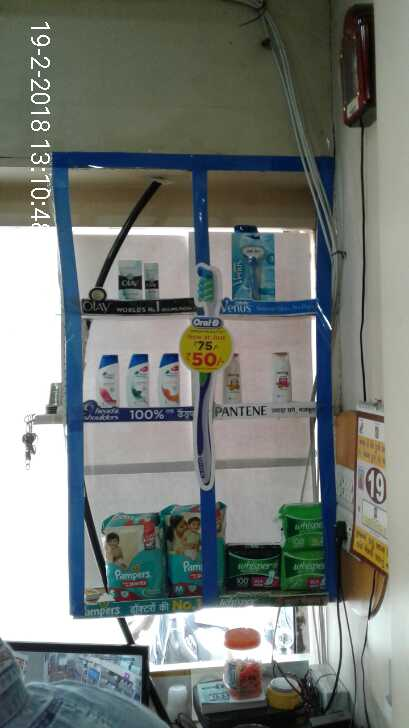venus: (233, 230, 274, 300)
